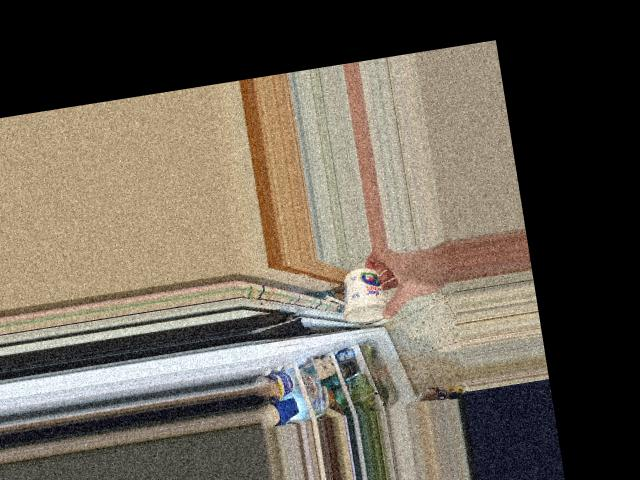cotage: (337, 262, 390, 325)
